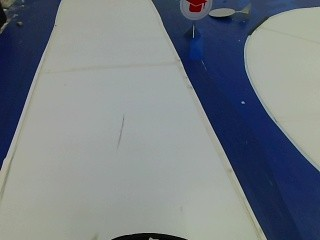school: (180, 0, 210, 19)
